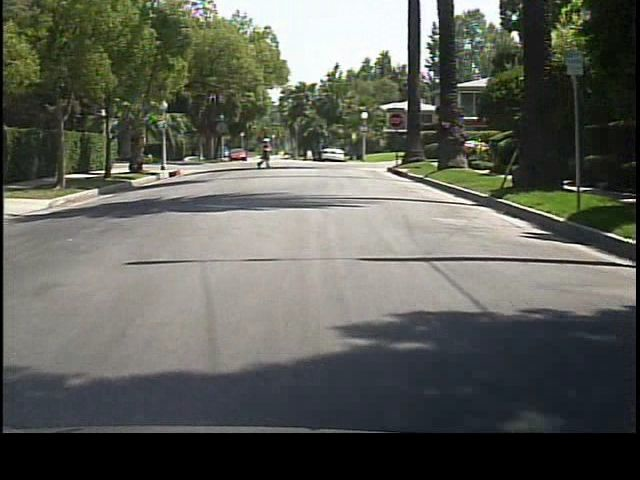person: (259, 134, 274, 168)
